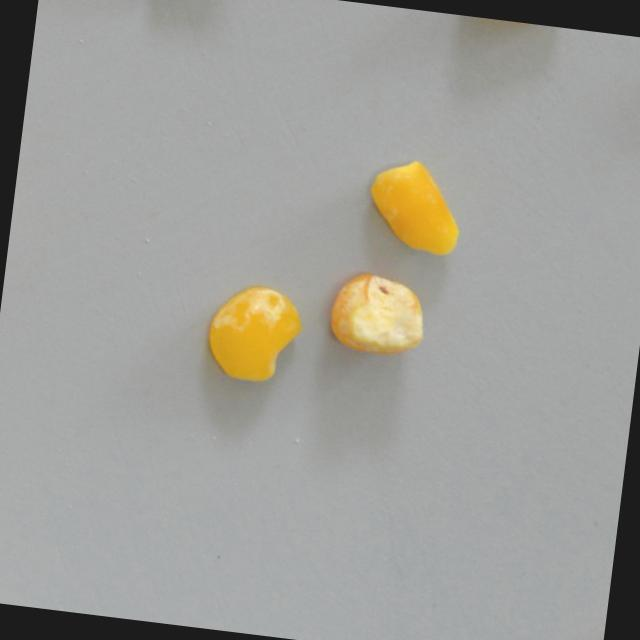dañado: (358, 150, 472, 261), (199, 277, 306, 391), (319, 265, 434, 363)
